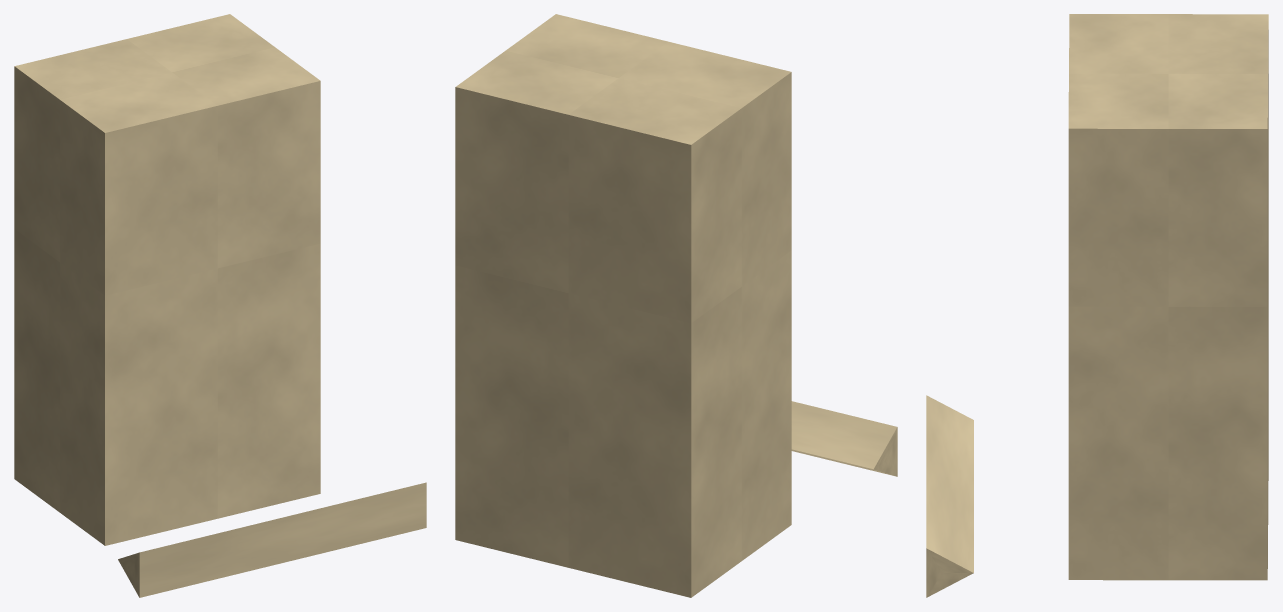
Rendered from Paper_Stack_2_LOD2.gltf.
3 renders of one model, left to right at view 1: azimuth 30°, elevation 25°; view 2: azimuth 150°, elevation 25°; view 3: azimuth 270°, elevation 25°, orthographic. The views are drawn at different scales.
Visible parts, largest first — view 1: Paper_Stack_2_LOD2; view 2: Paper_Stack_2_LOD2; view 3: Paper_Stack_2_LOD2.
Part boxes in pixels (x1,y1,x2,y2): Paper_Stack_2_LOD2: (14, 14, 426, 597); Paper_Stack_2_LOD2: (455, 14, 897, 597); Paper_Stack_2_LOD2: (926, 14, 1268, 597).
Bounding box in the file's own units: 0.4 × 0.55 × 0.378.
Materials: 1 (1 with a texture image).
